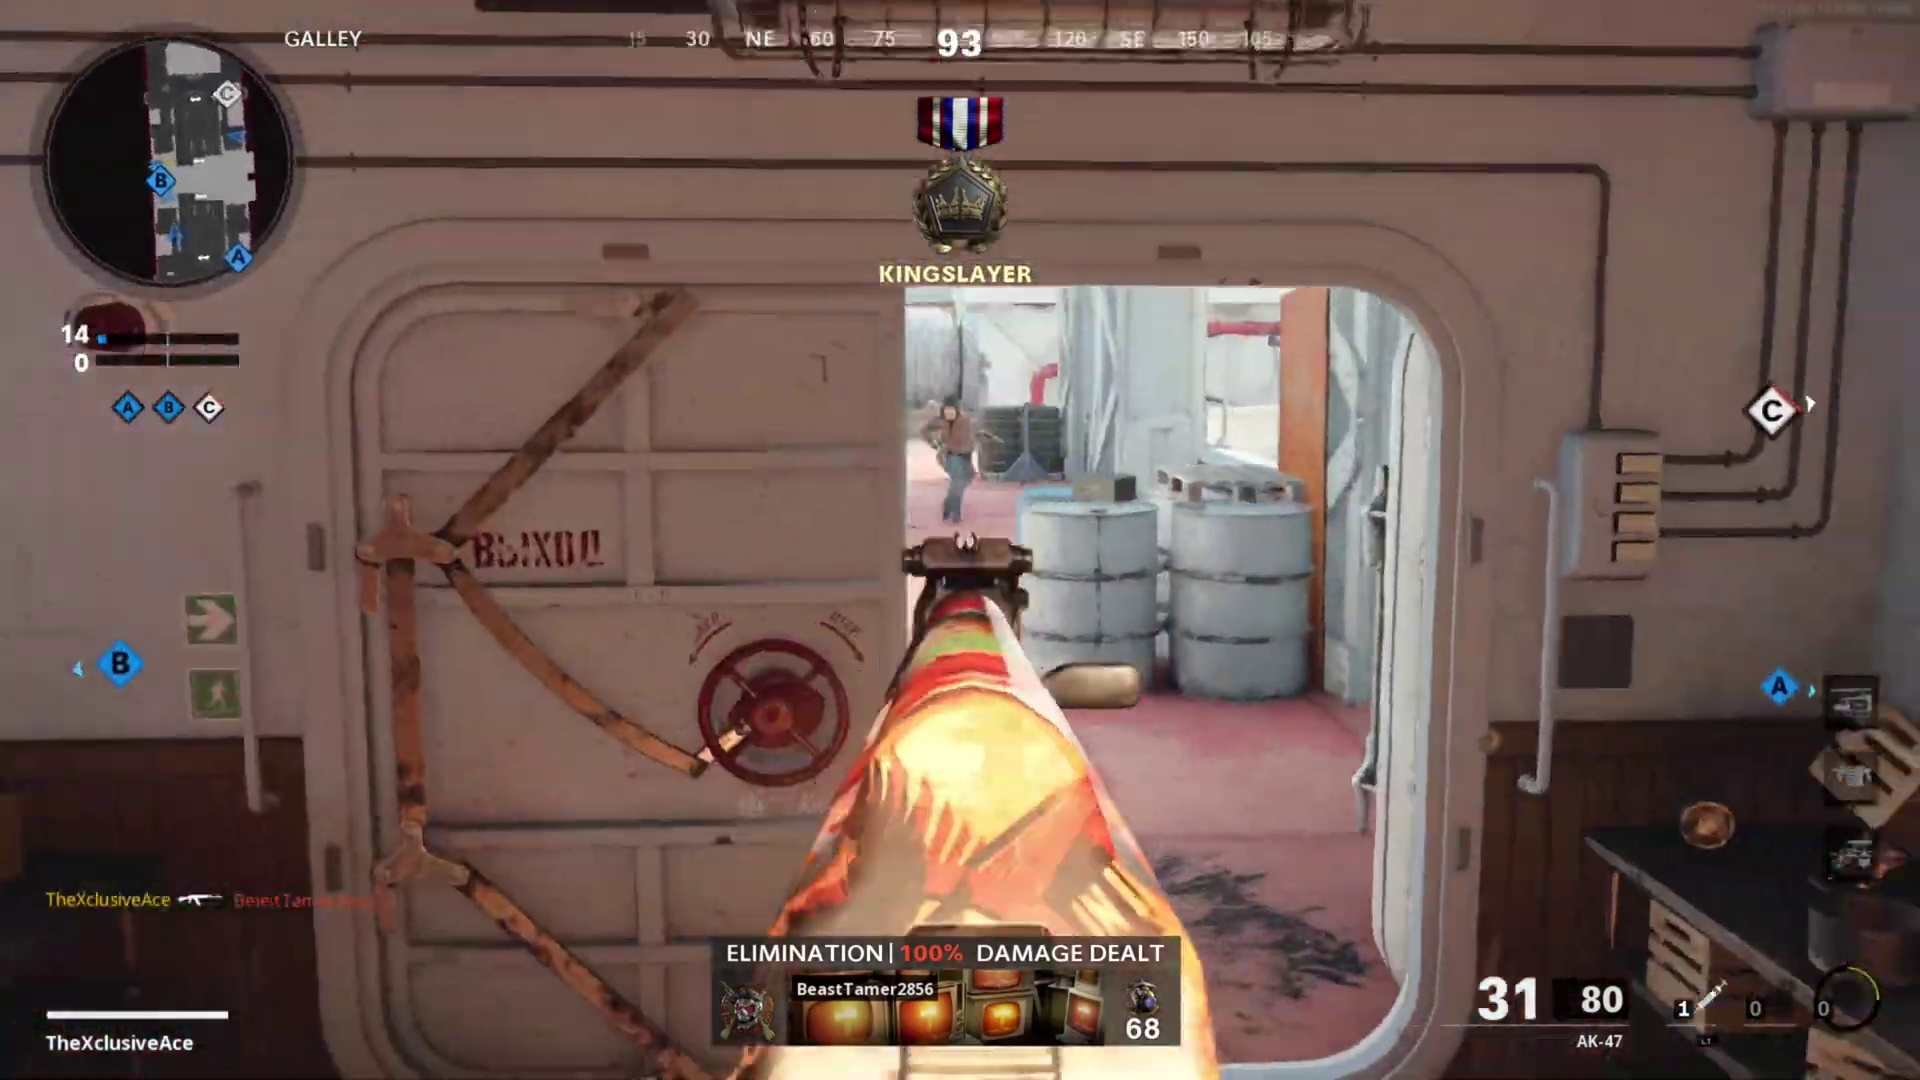head: (938, 396, 963, 428)
person: (922, 397, 978, 521)
